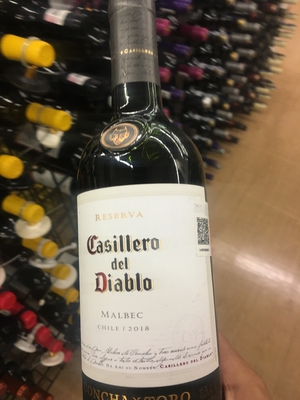casillero del diablo malbec: (63, 21, 234, 400)
